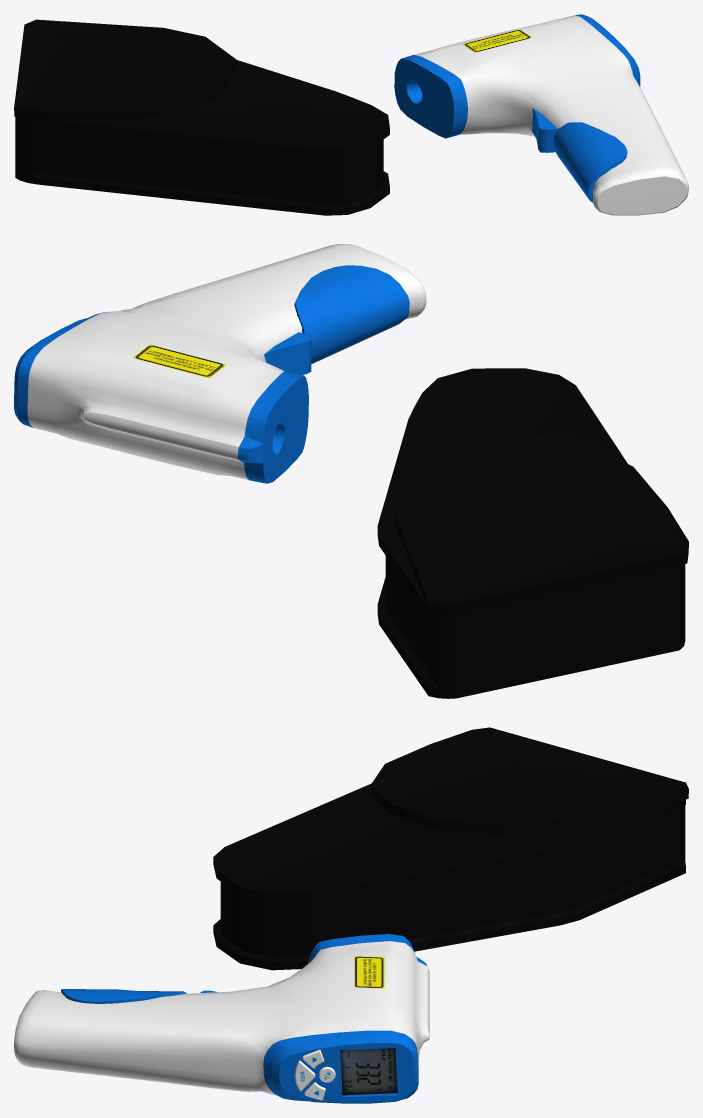
The model's file is Thermometer.FBX.
The picture shows the model from 3 angles, top to bottom: view 1: azimuth 30°, elevation 25°; view 2: azimuth 150°, elevation 25°; view 3: azimuth 270°, elevation 25°; orthographic projection. The views are drawn at different scales.
Visible parts, largest first — view 1: ThermometerCase, Thermometer, Thermometer Asymmetrical; view 2: ThermometerCase, Thermometer, Thermometer Asymmetrical; view 3: ThermometerCase, Thermometer, Thermometer Asymmetrical.
Boxes of the visible parts, box(x1,y1,x2,y2) form: ThermometerCase: box(14, 19, 389, 215); Thermometer: box(394, 14, 688, 215); Thermometer Asymmetrical: box(462, 29, 627, 202); ThermometerCase: box(377, 368, 688, 698); Thermometer: box(14, 244, 426, 483); Thermometer Asymmetrical: box(132, 265, 409, 378); ThermometerCase: box(213, 727, 688, 970); Thermometer: box(14, 934, 429, 1103); Thermometer Asymmetrical: box(61, 956, 397, 1100).
Bounding box in the file's own units: 12.14 × 1.92 × 11.35.
6 materials, 3 textured.
